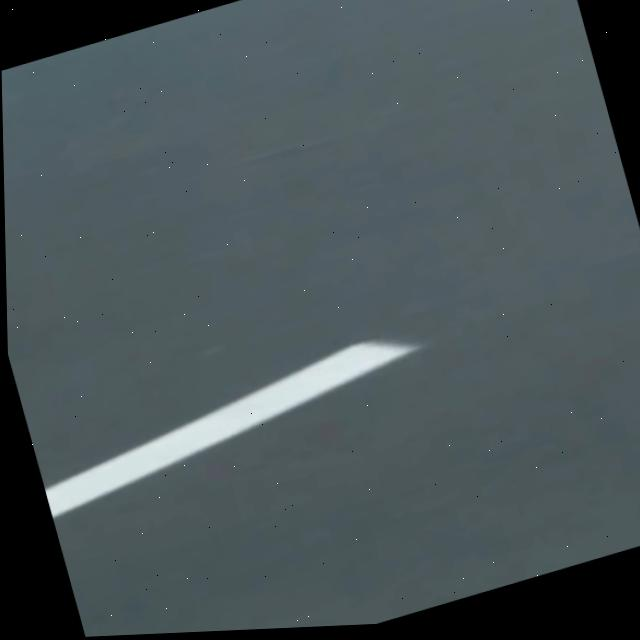center: (43, 341, 418, 518)
